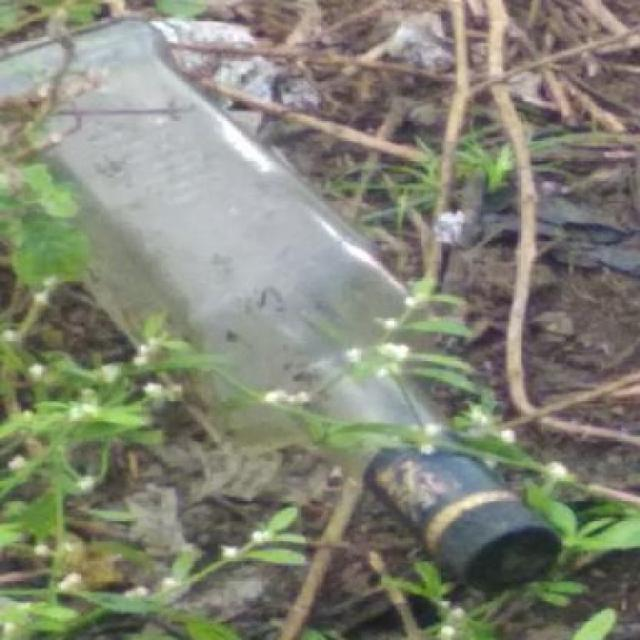garbage: (6, 46, 640, 522), (389, 474, 438, 510)
